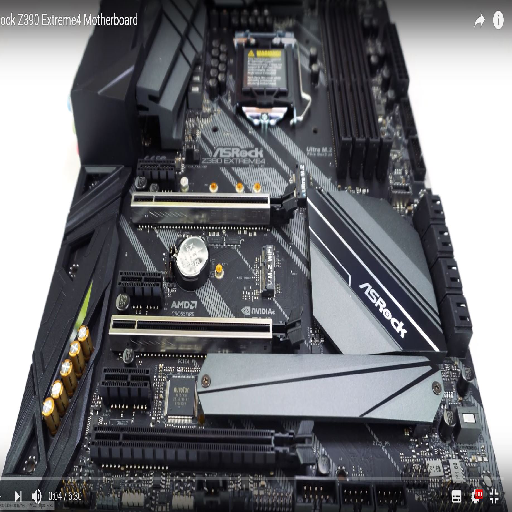CPU: (233, 29, 299, 127)
GPU: (88, 419, 319, 468), (129, 181, 297, 227), (108, 313, 304, 352)
MOTHERBOARD: (2, 1, 507, 510)
RAM: (318, 1, 393, 187)
SSD: (257, 245, 277, 295), (292, 162, 308, 202)
